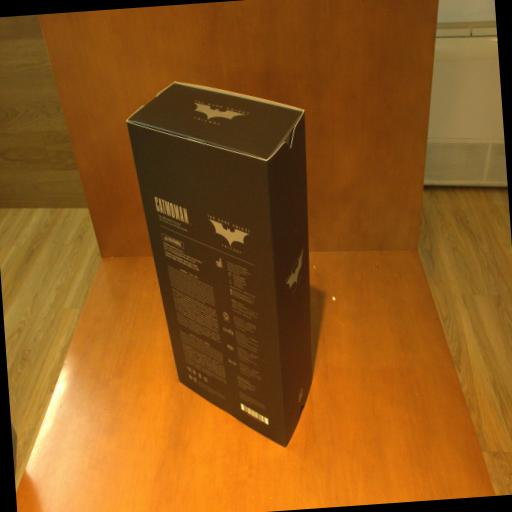catwoman: (124, 74, 326, 456)
